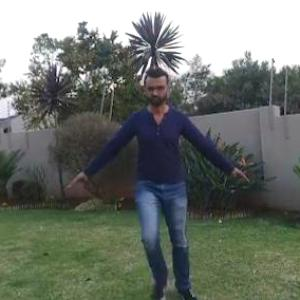land: (87, 33, 238, 284)
